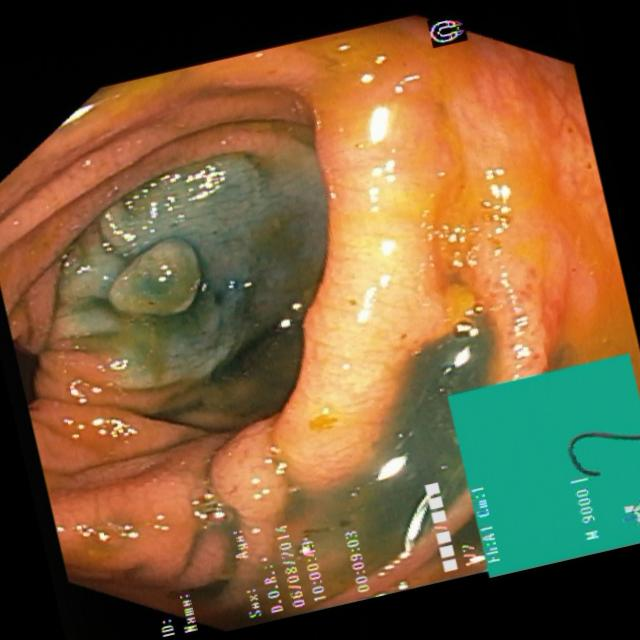dyed-lifted-polyps: (96, 225, 201, 335)
